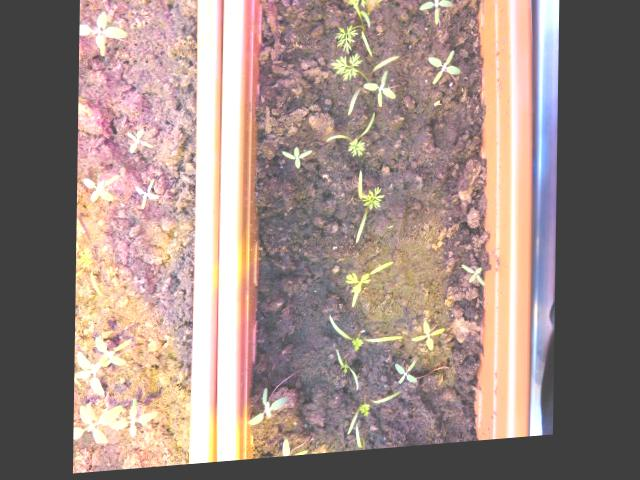weed: (245, 388, 292, 434), (412, 0, 458, 37), (423, 56, 463, 97), (408, 323, 447, 363), (78, 174, 122, 208), (130, 179, 163, 216), (122, 127, 158, 160), (277, 150, 315, 179), (264, 441, 310, 462), (390, 365, 421, 395), (458, 269, 488, 298)
